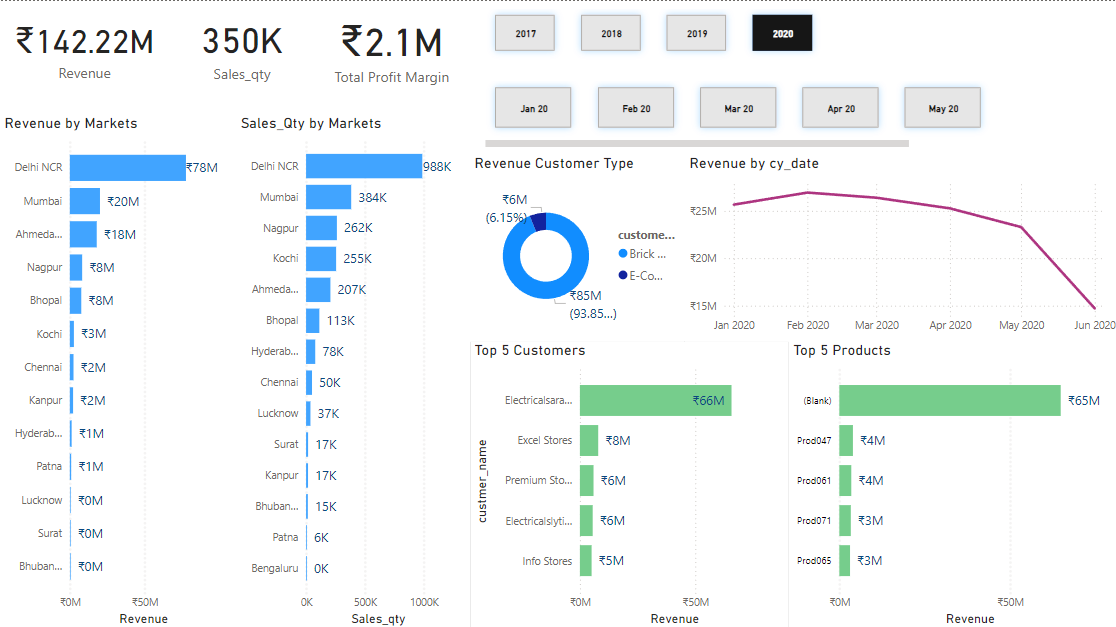

The dashboard page shown, as its layout file describes it:
{"tool":"powerbi","page":{"name":"Revenue Insight","canvas":[1280,720],"ordinal":0},"visuals":[{"type":"card","fields":{"Values":["Basemeasure.Revenue"]},"box":[0,1.2,193.8,103.8],"z":0},{"type":"card","fields":{"Values":["Basemeasure.Sales_qty"]},"box":[193.8,0,165,105],"z":1000},{"type":"advancedSlicerVisual","title":"Year","fields":{"Values":["sales date.year"]},"box":[550,0,397.5,73.8],"z":2000},{"type":"barChart","title":"Revenue by Markets","fields":{"Y":["Basemeasure.Revenue"],"Category":["sales markets.markets_name"]},"box":[0,128.8,270,591.2],"z":3000},{"type":"barChart","title":"Sales_Qty by Markets","fields":{"Y":["Basemeasure.Sales_qty"],"Category":["sales markets.markets_name"]},"box":[270,128.8,267.5,591.2],"z":4000},{"type":"advancedSlicerVisual","title":"Month","fields":{"Values":["sales date.cy_date"]},"box":[550,82.5,590,91.2],"z":5000},{"type":"barChart","title":"Top 5 Customers","fields":{"Category":["sales customers.custmer_name"],"Y":["Basemeasure.Revenue"]},"box":[537.5,388.8,363.8,331.2],"z":6000},{"type":"barChart","title":"Top 5 Products","fields":{"Y":["Basemeasure.Revenue"],"Category":["sales products.product_code"]},"box":[901.2,388.8,378.8,331.2],"z":7000},{"type":"lineChart","fields":{"Y":["Basemeasure.Revenue"],"Category":["sales date.cy_date"]},"box":[782.5,173.8,497.5,215],"z":8000},{"type":"card","fields":{"Values":["Basemeasure.Total Profit Margin"]},"box":[358.8,1.2,178.8,103.8],"z":9000},{"type":"donutChart","title":"Revenue Customer Type","fields":{"Category":["sales customers.customer_type"],"Y":["Basemeasure.Revenue"]},"box":[537.5,173.8,245,215],"z":10000}]}

Visuals, with their boxes in screenshot pixels (x1, y1, x2, y2), scaled from the page's 1280x720 canvas onto the 1116x627 screenshot:
card - Basemeasure.Revenue: region(0, 1, 169, 91)
card - Basemeasure.Sales_qty: region(169, 0, 313, 91)
"Year" advancedSlicerVisual: region(480, 0, 826, 64)
"Revenue by Markets" barChart: region(0, 112, 235, 626)
"Sales_Qty by Markets" barChart: region(235, 112, 469, 626)
"Month" advancedSlicerVisual: region(480, 72, 994, 151)
"Top 5 Customers" barChart: region(469, 339, 786, 626)
"Top 5 Products" barChart: region(786, 339, 1115, 626)
lineChart - Basemeasure.Revenue x sales date.cy_date: region(682, 151, 1115, 339)
card - Basemeasure.Total Profit Margin: region(313, 1, 469, 91)
"Revenue Customer Type" donutChart: region(469, 151, 682, 339)
